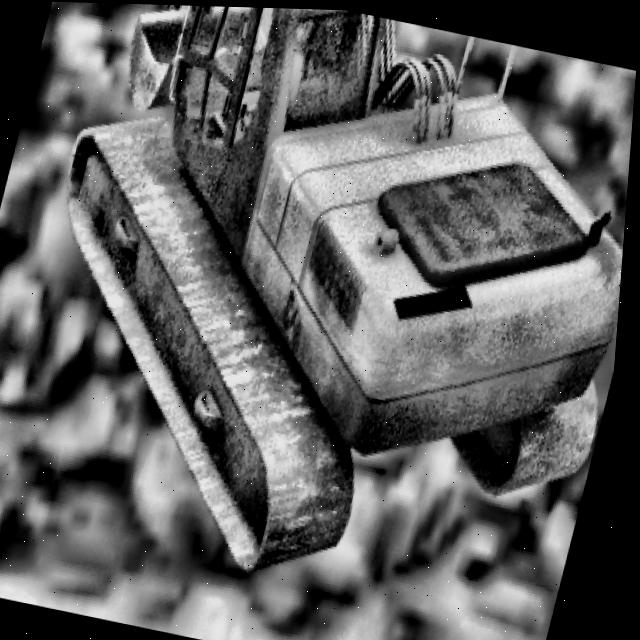excavator: (0, 0, 640, 631)
